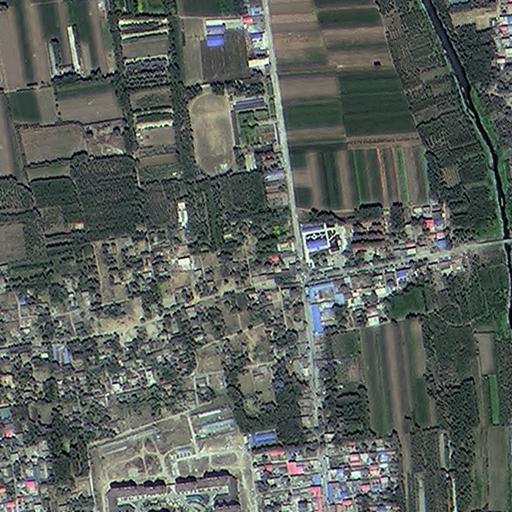school: (184, 87, 274, 178)
